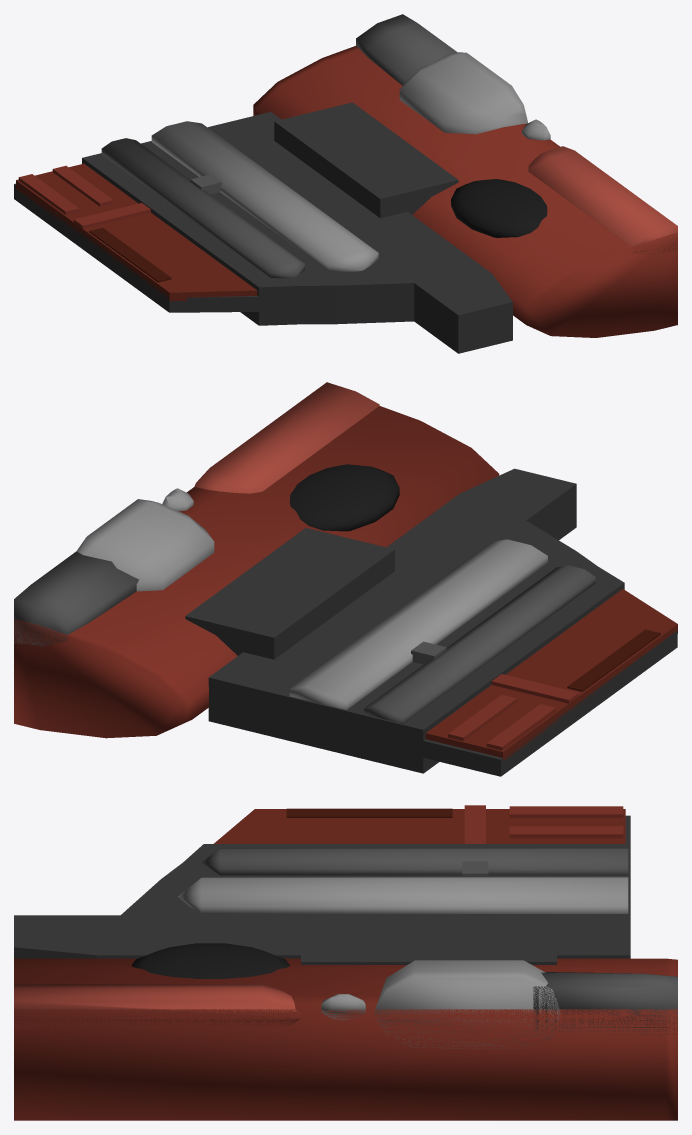
Rendered from newshi-239.glb.
3 renders of one model, top to bottom at view 1: azimuth 30°, elevation 25°; view 2: azimuth 150°, elevation 25°; view 3: azimuth 270°, elevation 25°, orthographic. The views are drawn at different scales.
Parts seen in each view (by area): view 1: newshi-239; view 2: newshi-239; view 3: newshi-239.
Part boxes in pixels (x1=…): newshi-239: x1=14, y1=14, x2=677, y2=353; newshi-239: x1=14, y1=382, x2=677, y2=776; newshi-239: x1=14, y1=805, x2=677, y2=1120.
Size of the model in its own units: 2 by 0.551 by 2.33.
